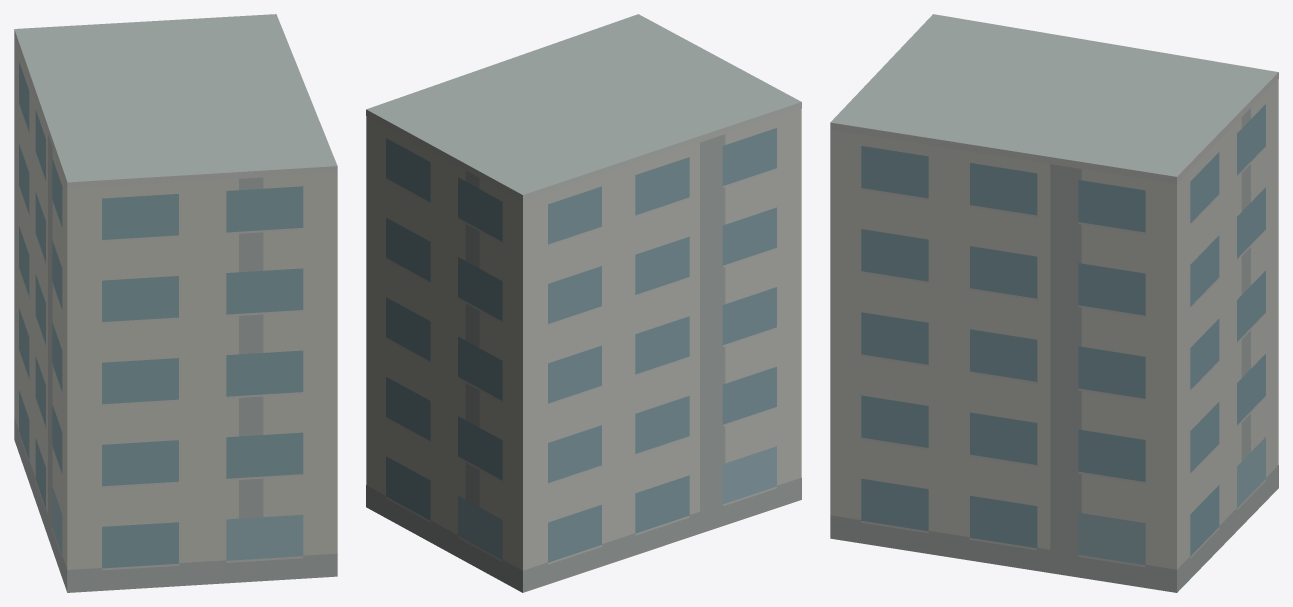
Rendered from survey-upis-32804140.glb.
3 renders of one model, left to right at view 1: azimuth 30°, elevation 25°; view 2: azimuth 150°, elevation 25°; view 3: azimuth 270°, elevation 25°, orthographic. The views are drawn at different scales.
Parts seen in each view (by area): view 1: survey-upis-32804140.tmp; view 2: survey-upis-32804140.tmp; view 3: survey-upis-32804140.tmp.
Part boxes in pixels (x1,y1,x2,y2): survey-upis-32804140.tmp: (14, 14, 337, 592); survey-upis-32804140.tmp: (366, 14, 801, 592); survey-upis-32804140.tmp: (830, 14, 1278, 592).
Size of the model in its own units: 12.14 by 14.45 by 14.13.
